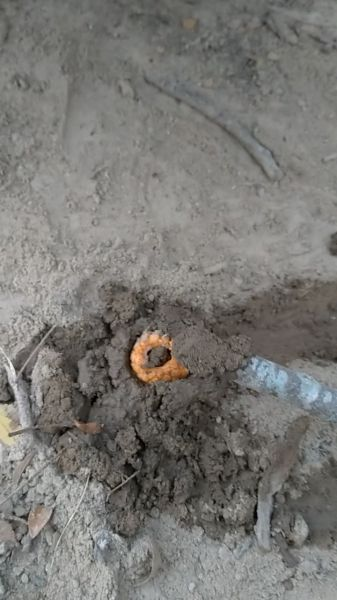eggs: (124, 324, 197, 387)
